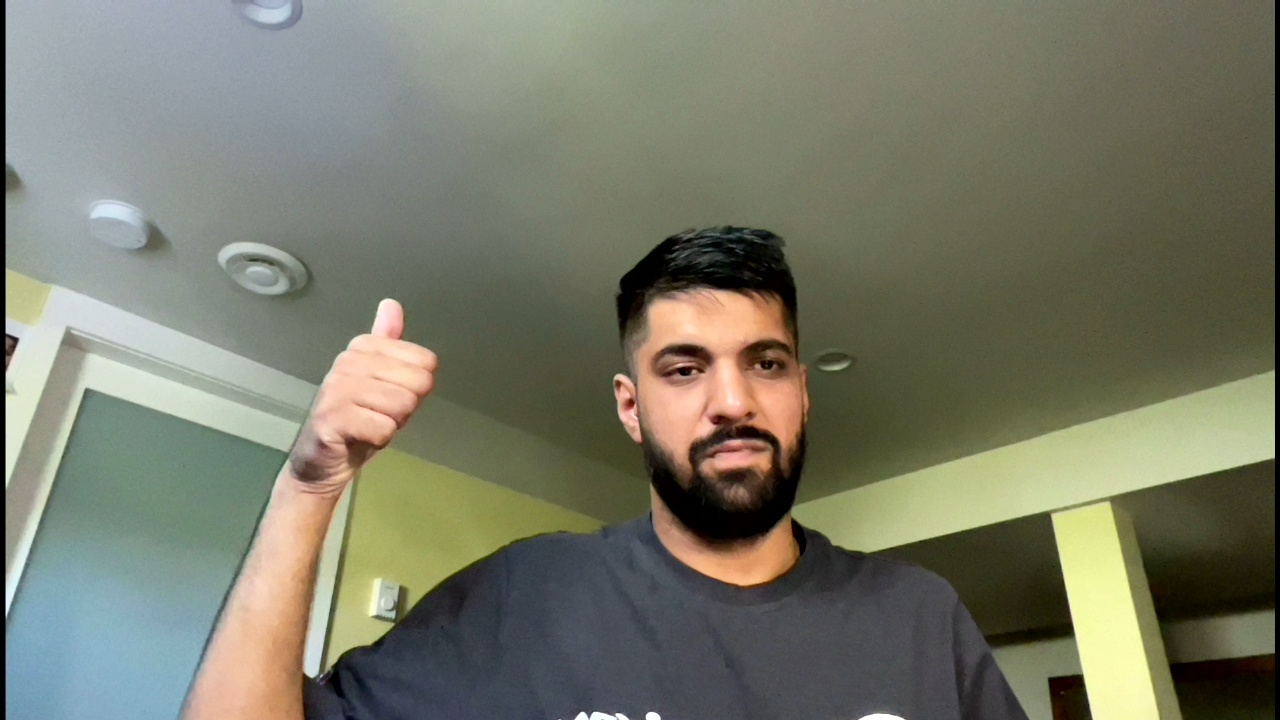Yes: (291, 295, 451, 481)
